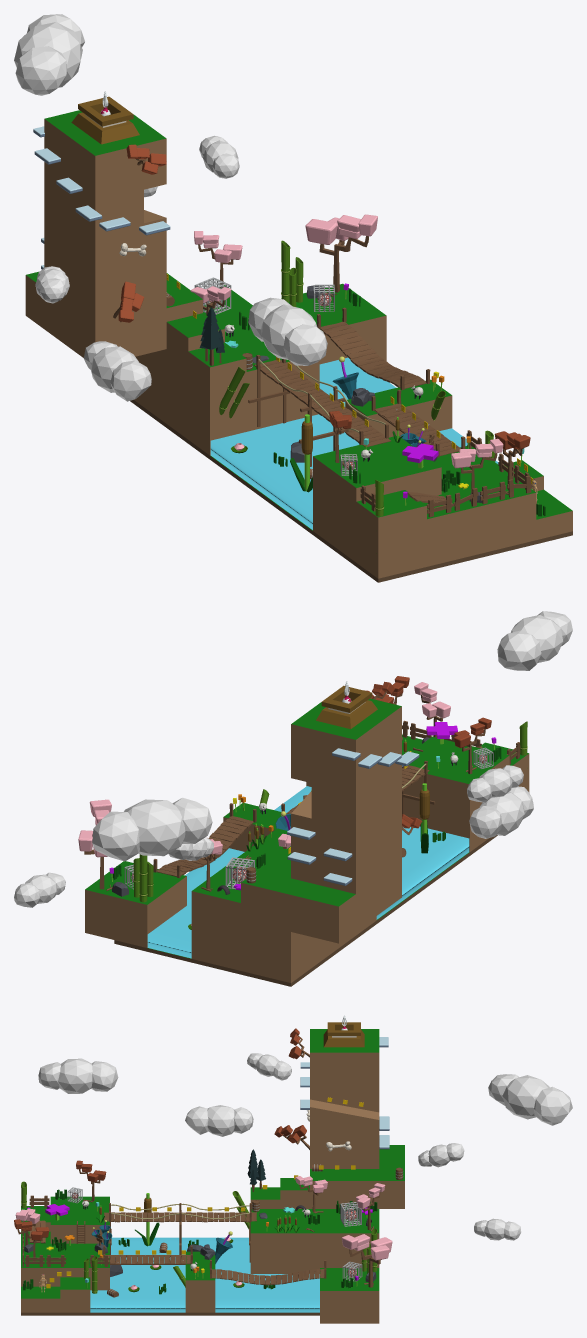
File: Formation2.fbx
3 views of the same model, one above another, from view 1: azimuth 30°, elevation 25°; view 2: azimuth 150°, elevation 25°; view 3: azimuth 270°, elevation 25° (orthographic). The views are drawn at different scales.
Visible parts, largest first — view 1: Ground, Water, Cloud.005, Pont5, Cloud, Cloud.001, Pont3.2, Fin, Arbre.008, Pont3.1, Cloud.004, Cloud.002 (+4 smaller); view 2: Ground, Water, Cloud.005, Cloud, Cloud.001, Fin, Pont3.2, Cloud.002, Cloud.004, Arbre.008, Arbre.014, Cloud.003 (+4 smaller); view 3: Ground, Water, Cloud.005, Cloud, Pont5, Cloud.001, Pont3.2, Fin, Pont3.1, Cloud.004, Cloud.003, Cloud.002 (+2 smaller).
Part boxes in pixels (x1=…): Ground: x1=25, y1=110, x2=572, y2=582; Water: x1=210, y1=357, x2=498, y2=529; Cloud.005: x1=14, y1=14, x2=84, y2=95; Pont5: x1=248, y1=355, x2=390, y2=466; Cloud: x1=248, y1=297, x2=327, y2=365; Cloud.001: x1=83, y1=341, x2=151, y2=401; Pont3.2: x1=317, y1=307, x2=430, y2=390; Fin: x1=71, y1=96, x2=139, y2=144; Arbre.008: x1=305, y1=214, x2=377, y2=244; Pont3.1: x1=371, y1=389, x2=465, y2=457; Cloud.004: x1=199, y1=135, x2=239, y2=178; Cloud.002: x1=35, y1=266, x2=69, y2=303; Ground: x1=85, y1=698, x2=529, y2=986; Water: x1=147, y1=786, x2=469, y2=958; Cloud.005: x1=92, y1=797, x2=212, y2=861; Cloud: x1=497, y1=611, x2=572, y2=670; Cloud.001: x1=469, y1=786, x2=533, y2=838; Fin: x1=316, y1=685, x2=377, y2=728; Pont3.2: x1=153, y1=803, x2=256, y2=877; Cloud.002: x1=467, y1=765, x2=523, y2=802; Cloud.004: x1=14, y1=872, x2=65, y2=907; Arbre.008: x1=78, y1=799, x2=111, y2=857; Arbre.014: x1=414, y1=682, x2=450, y2=718; Cloud.003: x1=168, y1=837, x2=213, y2=860; Ground: x1=21, y1=1029, x2=404, y2=1323; Water: x1=90, y1=1237, x2=319, y2=1312; Cloud.005: x1=488, y1=1074, x2=572, y2=1125; Cloud: x1=38, y1=1058, x2=118, y2=1093; Pont5: x1=104, y1=1203, x2=256, y2=1262; Cloud.001: x1=185, y1=1105, x2=253, y2=1136; Pont3.2: x1=209, y1=1260, x2=326, y2=1285; Fin: x1=323, y1=1022, x2=364, y2=1047; Pont3.1: x1=103, y1=1245, x2=192, y2=1264; Cloud.004: x1=474, y1=1218, x2=521, y2=1240; Cloud.003: x1=418, y1=1143, x2=464, y2=1167; Cloud.002: x1=247, y1=1053, x2=291, y2=1080.
Bounding box in the file's own units: 6261 × 4853 × 10913.
